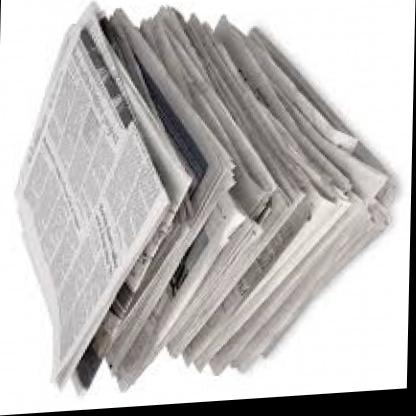Paper: (7, 0, 412, 407)
